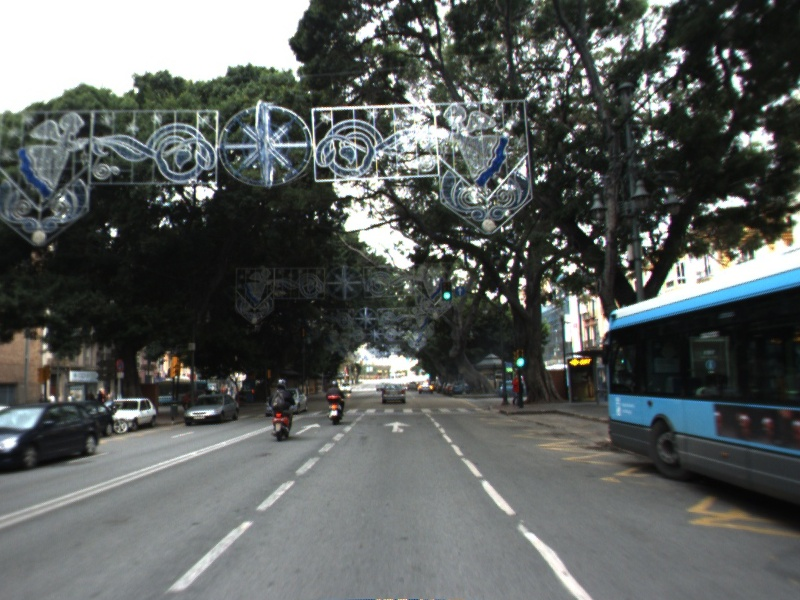STRAIGHT: (382, 419, 414, 435), (293, 421, 323, 437)
